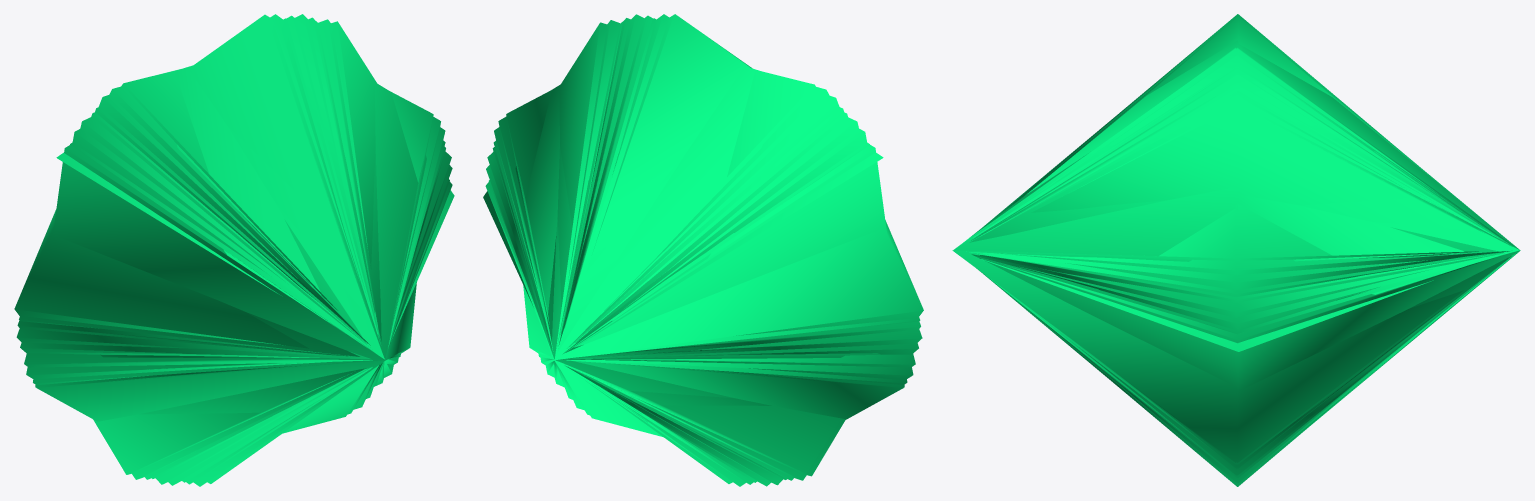
Rendered from neutron_star_ultra-hd_fallback_1767337091664.glb.
The picture shows the model from 3 angles, left to right: view 1: azimuth 30°, elevation 25°; view 2: azimuth 150°, elevation 25°; view 3: azimuth 270°, elevation 25°; orthographic projection. The views are drawn at different scales.
Visible parts, largest first — view 1: MathShape; view 2: MathShape; view 3: MathShape.
Part boxes in pixels (bbox=[...]): MathShape: bbox=[14, 14, 454, 486]; MathShape: bbox=[483, 14, 923, 486]; MathShape: bbox=[952, 14, 1520, 486].
Bounding box in the file's own units: 2.08 × 2.06 × 2.46.
